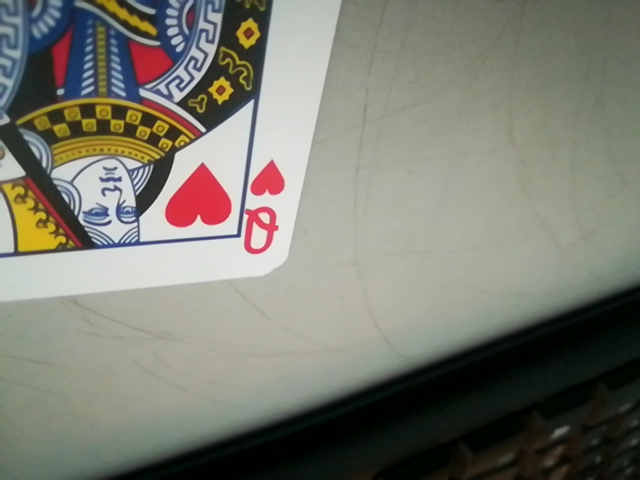hx q: (240, 154, 292, 261)
